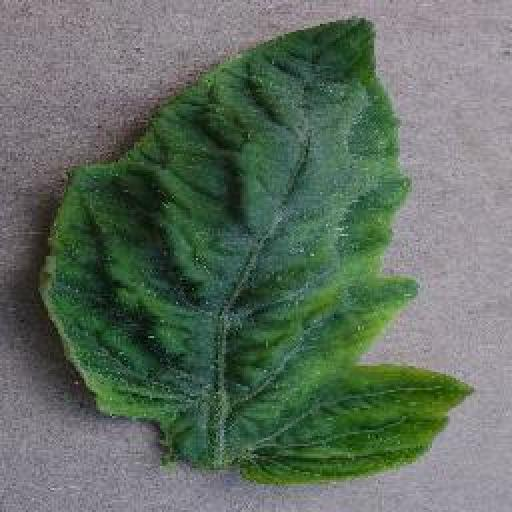disease_tomato: (40, 10, 478, 480)
